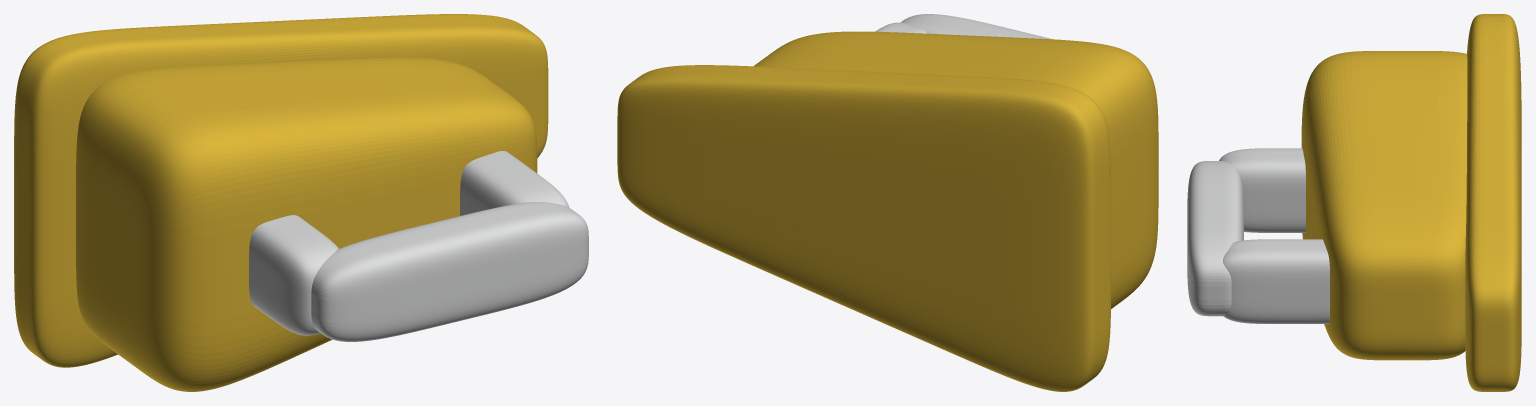
The model's file is classic_steam_iron_sq.glb.
3 views of the same model, side by side, from view 1: azimuth 30°, elevation 25°; view 2: azimuth 150°, elevation 25°; view 3: azimuth 270°, elevation 25° (orthographic). The views are drawn at different scales.
Parts seen in each view (by area): view 1: superquadric_1, superquadric_0, superquadric_4, superquadric_2, superquadric_3; view 2: superquadric_0, superquadric_1, superquadric_4; view 3: superquadric_1, superquadric_0, superquadric_3, superquadric_4, superquadric_2.
Boxes of the visible parts, box(x1,y1,x2,y2) form: superquadric_1: box(76, 57, 537, 391); superquadric_0: box(14, 14, 548, 367); superquadric_4: box(311, 202, 588, 341); superquadric_2: box(249, 215, 338, 335); superquadric_3: box(460, 151, 569, 215); superquadric_0: box(617, 65, 1110, 391); superquadric_1: box(754, 31, 1158, 308); superquadric_4: box(900, 14, 1052, 39); superquadric_1: box(1301, 51, 1467, 360); superquadric_0: box(1465, 14, 1521, 391); superquadric_3: box(1223, 239, 1329, 323); superquadric_4: box(1187, 161, 1243, 316); superquadric_2: box(1219, 148, 1305, 232).
Size of the model in its own units: 1 by 0.5882 by 0.6704.
